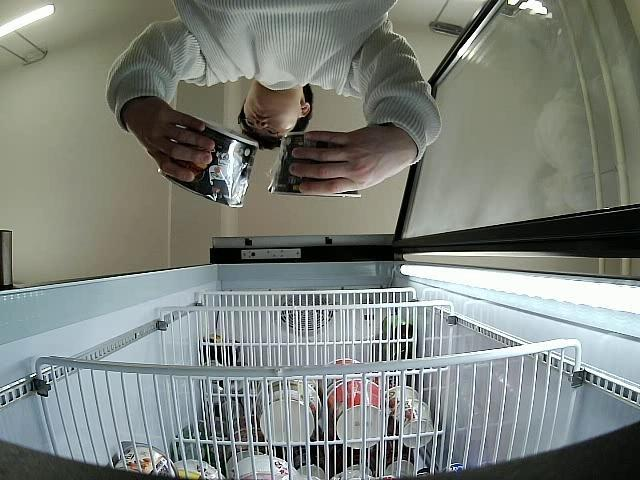07_buldak_L: (164, 110, 257, 207), (266, 128, 360, 202)
